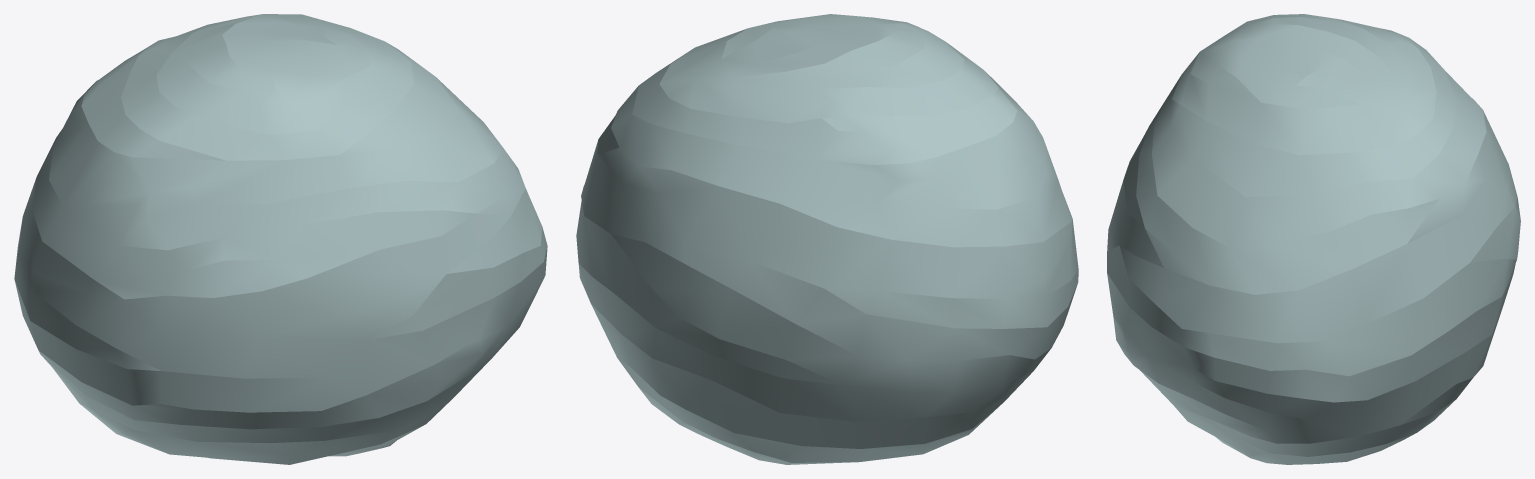
The model's file is rock_round_C.fbx.
3 renders of one model, left to right at view 1: azimuth 30°, elevation 25°; view 2: azimuth 150°, elevation 25°; view 3: azimuth 270°, elevation 25°, orthographic. The views are drawn at different scales.
Visible parts, largest first — view 1: rock_round_C; view 2: rock_round_C; view 3: rock_round_C.
Boxes of the visible parts, x1,y1,x2,y2 form: rock_round_C: [14, 14, 547, 464]; rock_round_C: [576, 14, 1078, 464]; rock_round_C: [1107, 14, 1520, 464].
Bounding box in the file's own units: 82.09 × 66.93 × 66.63.
